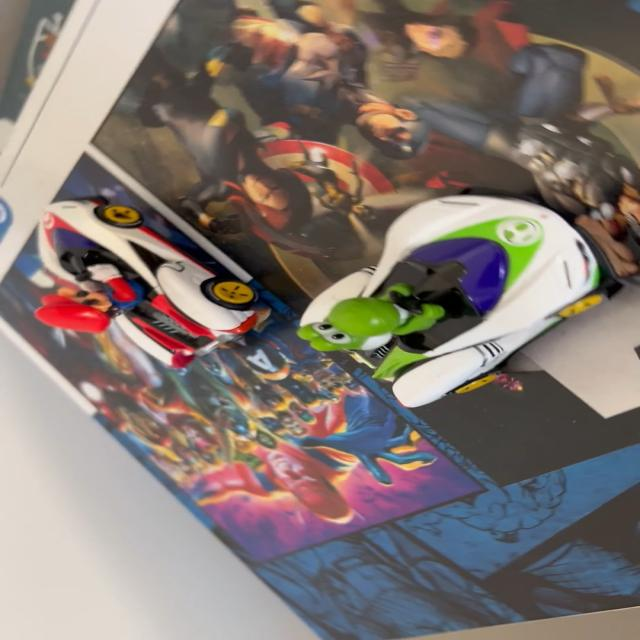mario: (24, 194, 279, 376)
yoshi: (287, 180, 635, 418)
